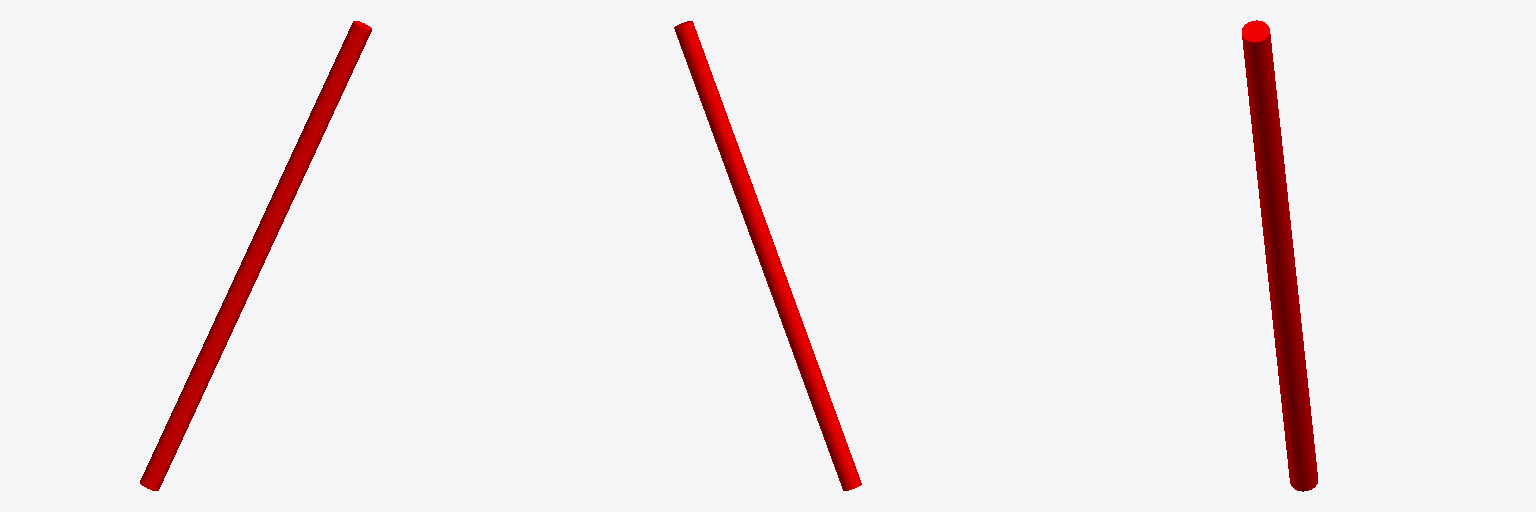
URDF robot description (tree_6.urdf):
<?xml version='1.0' encoding='utf-8'?>
<robot name="tree_6.urdf">
  <link name="branch_0">
    <inertial>
      <origin xyz="0.0 0.0 0.0" rpy="0.0 -0.0 0.0" />
      <mass value="1.0" />
      <inertia ixx="1.0" ixy="0.0" ixz="0.0" iyy="1.0" iyz="0.0" izz="1.0" />
    </inertial>
    <visual name="branch_0_visual">
      <geometry>
        <cylinder radius="0.0615957975857474" length="3.066338592222393" />
      </geometry>
      <material name="semantic_material" />
      <origin xyz="0.6628324154346701 -0.10414828148343439 1.3785551911516598" rpy="0.0 0.4529639668434696 -0.15585186142751645" />
    </visual>
    <collision name="branch_0_collision">
      <geometry>
        <cylinder radius="0.0615957975857474" length="3.066338592222393" />
      </geometry>
      <origin xyz="0.6628324154346701 -0.10414828148343439 1.3785551911516598" rpy="0.0 0.4529639668434696 -0.15585186142751645" />
    </collision>
  </link>
  <material name="semantic_material">
    <color rgba="1. 0. 0. 1." />
  </material>
</robot>

--- Facts derived from the render (not from the file) ---
Views: 3 orthographic renders of the robot side by side, from view 1: azimuth 30°, elevation 25°; view 2: azimuth 150°, elevation 25°; view 3: azimuth 270°, elevation 25°.
Robot: tree_6.urdf — 1 links, 0 joints (none); root link branch_0; default pose: all joints at 0.
Links seen in each view (by area): view 1: branch_0; view 2: branch_0; view 3: branch_0.
Boxes of the visible links, x1=… form: branch_0: x1=140, y1=21, x2=371, y2=490; branch_0: x1=674, y1=21, x2=861, y2=490; branch_0: x1=1242, y1=20, x2=1317, y2=491.
Size in the robot's own frame: 1.44 by 0.331 by 2.81 metres.
Geometry: primitives only (box / cylinder / sphere), no mesh files.